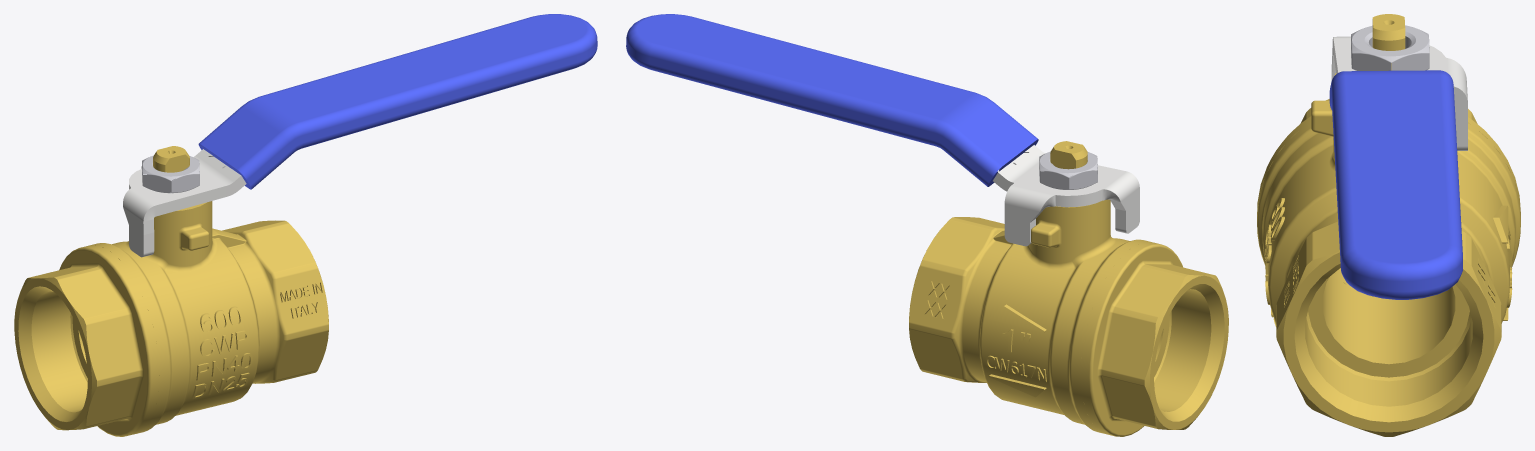
File: valve.fbx
3 renders of one model, left to right at view 1: azimuth 30°, elevation 25°; view 2: azimuth 150°, elevation 25°; view 3: azimuth 270°, elevation 25°, orthographic. The views are drawn at different scales.
Parts seen in each view (by area): view 1: 2150291_3, bluelayer, 2150291_5, inner_handle, nut_out, nut_in; view 2: 2150291_3, bluelayer, 2150291_5, inner_handle, nut_out, nut_in; view 3: 2150291_3, bluelayer, nut_out, inner_handle, nut_in, 2150291_5.
Part boxes in pixels (left/top/right/bottom): 2150291_3: left=88, top=201, right=328, bottom=433; bluelayer: left=198, top=14, right=597, bottom=189; 2150291_5: left=14, top=245, right=159, bottom=436; inner_handle: left=123, top=149, right=246, bottom=257; nut_out: left=142, top=155, right=199, bottom=193; nut_in: left=153, top=146, right=189, bottom=172; 2150291_3: left=909, top=199, right=1152, bottom=433; bluelayer: left=626, top=14, right=1038, bottom=186; 2150291_5: left=1081, top=242, right=1228, bottom=436; inner_handle: left=997, top=145, right=1139, bottom=246; nut_out: left=1039, top=151, right=1097, bottom=189; nut_in: left=1050, top=141, right=1087, bottom=169; 2150291_3: left=1257, top=73, right=1520, bottom=436; bluelayer: left=1329, top=70, right=1462, bottom=299; nut_out: left=1351, top=25, right=1429, bottom=70; inner_handle: left=1331, top=36, right=1467, bottom=150; nut_in: left=1372, top=14, right=1405, bottom=70; 2150291_5: left=1257, top=99, right=1520, bottom=296.
Bounding box in the file's own units: 15337 × 7742 × 4750.
